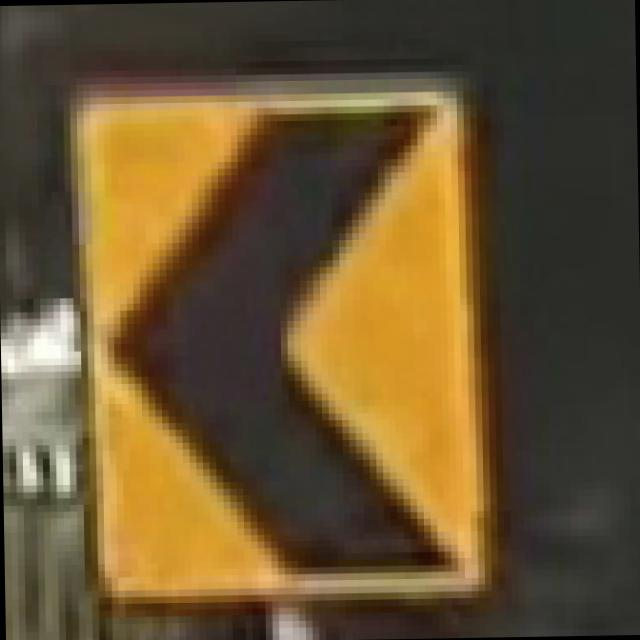curveleft_sign: (62, 77, 498, 611)
